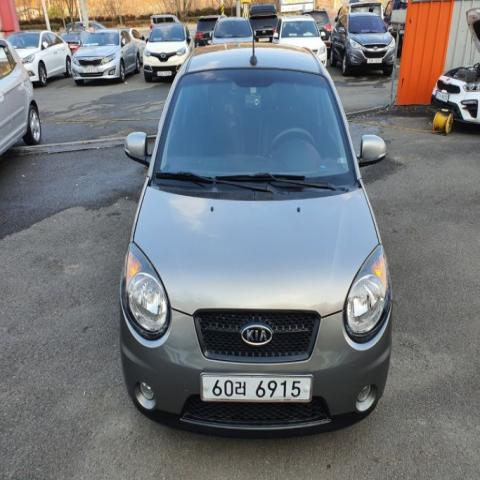LP: (199, 366, 315, 417)
